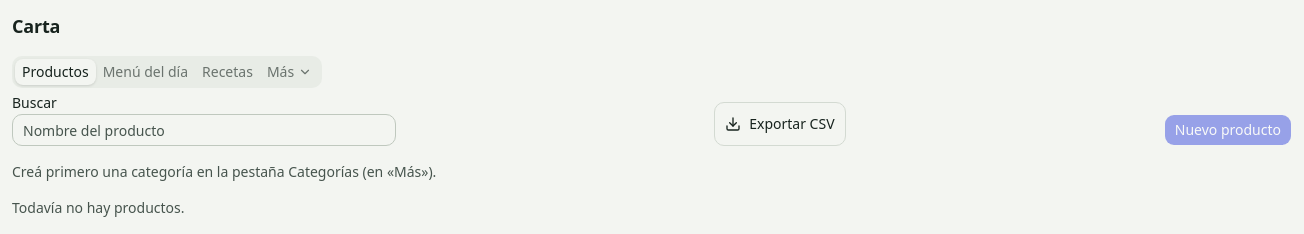
Test case: CatalogAdminPage › con todo encendido: tres pestañas a la vista, el resto en «Más», y abre en Productos
The image size is (1304, 234).
Expected: the tabs read "Productos", "Menú del día", "Recetas", in this order, [15,59,96,85]; [96,59,195,85]; [195,59,260,85]
Combos, Categorías y Modificadores no se perdieron: están en «Más».
Click the button "Más": click(290, 72) [260,59,319,85]
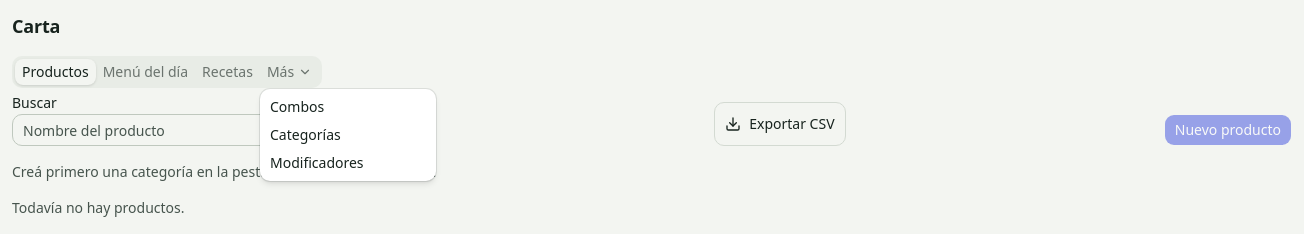
Now the menu items read "Combos", "Categorías", "Modificadores", in this order
Click the menu item "Categorías": click(305, 134) [270,125,341,144]
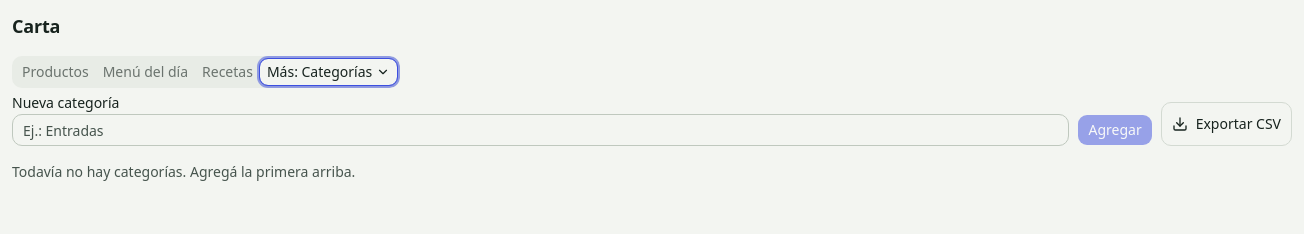
Now the button "Más: Categorías" is shown, box [260,59,397,85]
Now the field labelled "Nueva categoría" is shown, box [12,114,1070,146]
